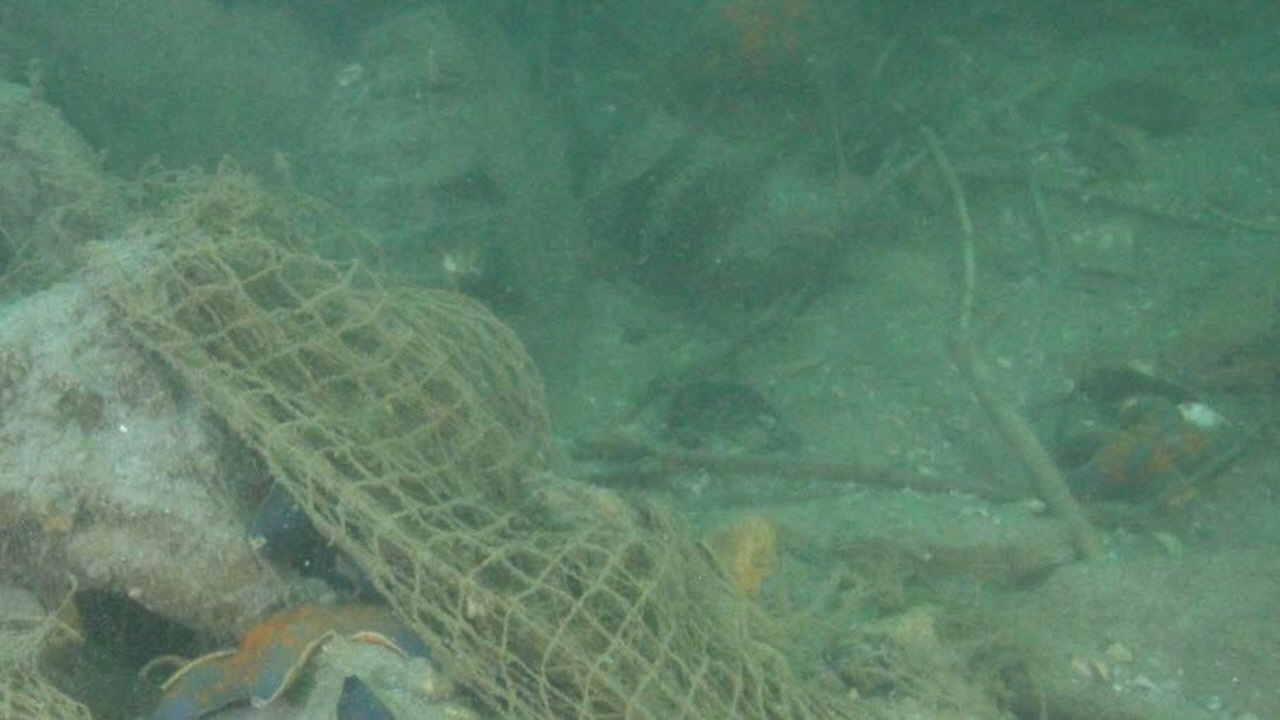fish net: (105, 225, 897, 720)
